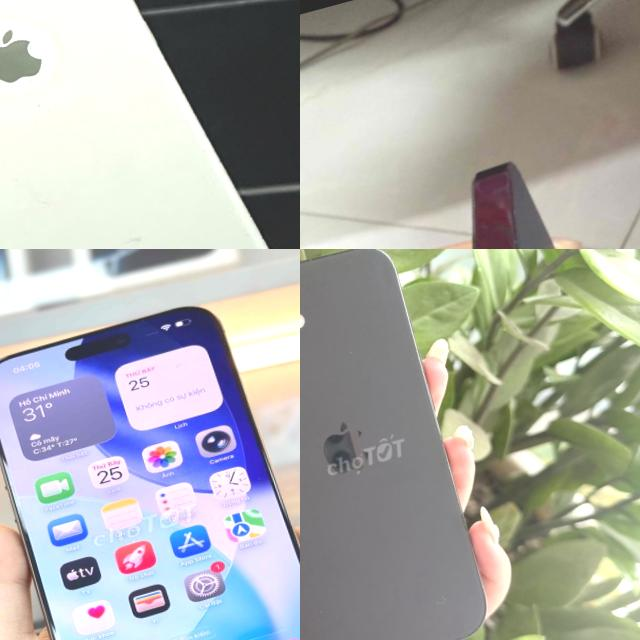gen_14: (413, 134, 640, 249)
gen_16: (0, 265, 300, 640), (300, 249, 504, 640)
gen_6: (0, 0, 300, 249)
